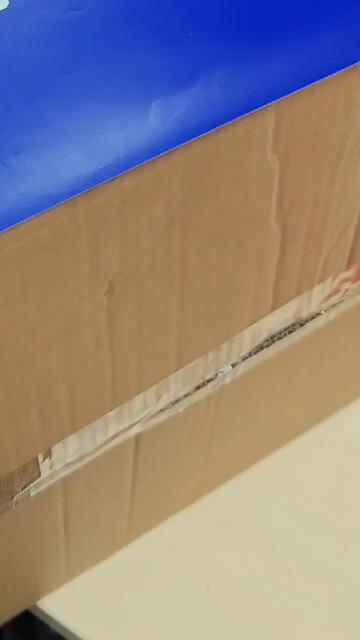B_R1: (0, 0, 146, 99)
